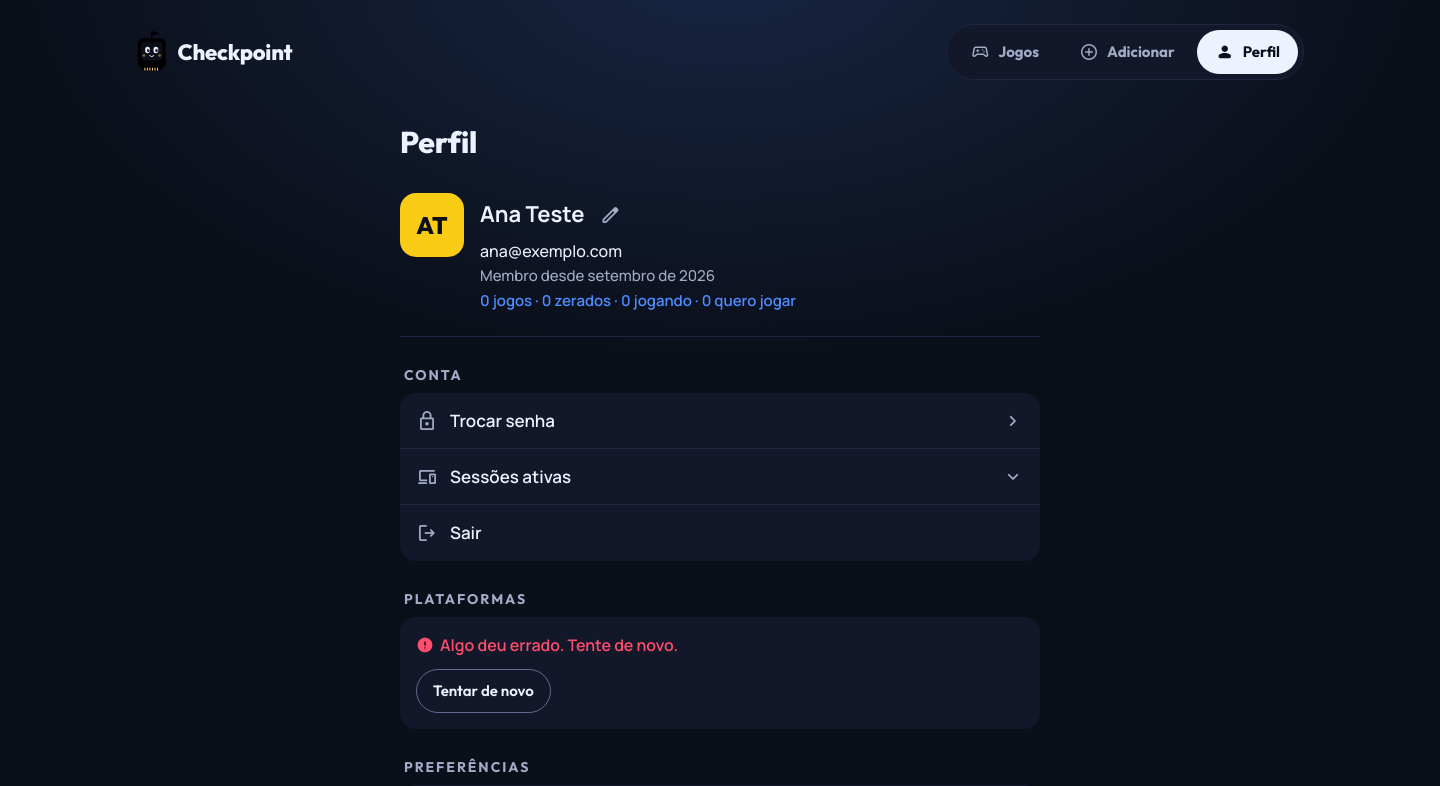
Test: /perfil (CA-33, CA-34, CA-36) › sem conexão, Sair NÃO sai: "Sem conexão. Para sair, conecte-se." e continua logado (CA-34)
Click the button "Sair": {"x": 466, "y": 533} x1=400 y1=505 x2=1040 y2=561
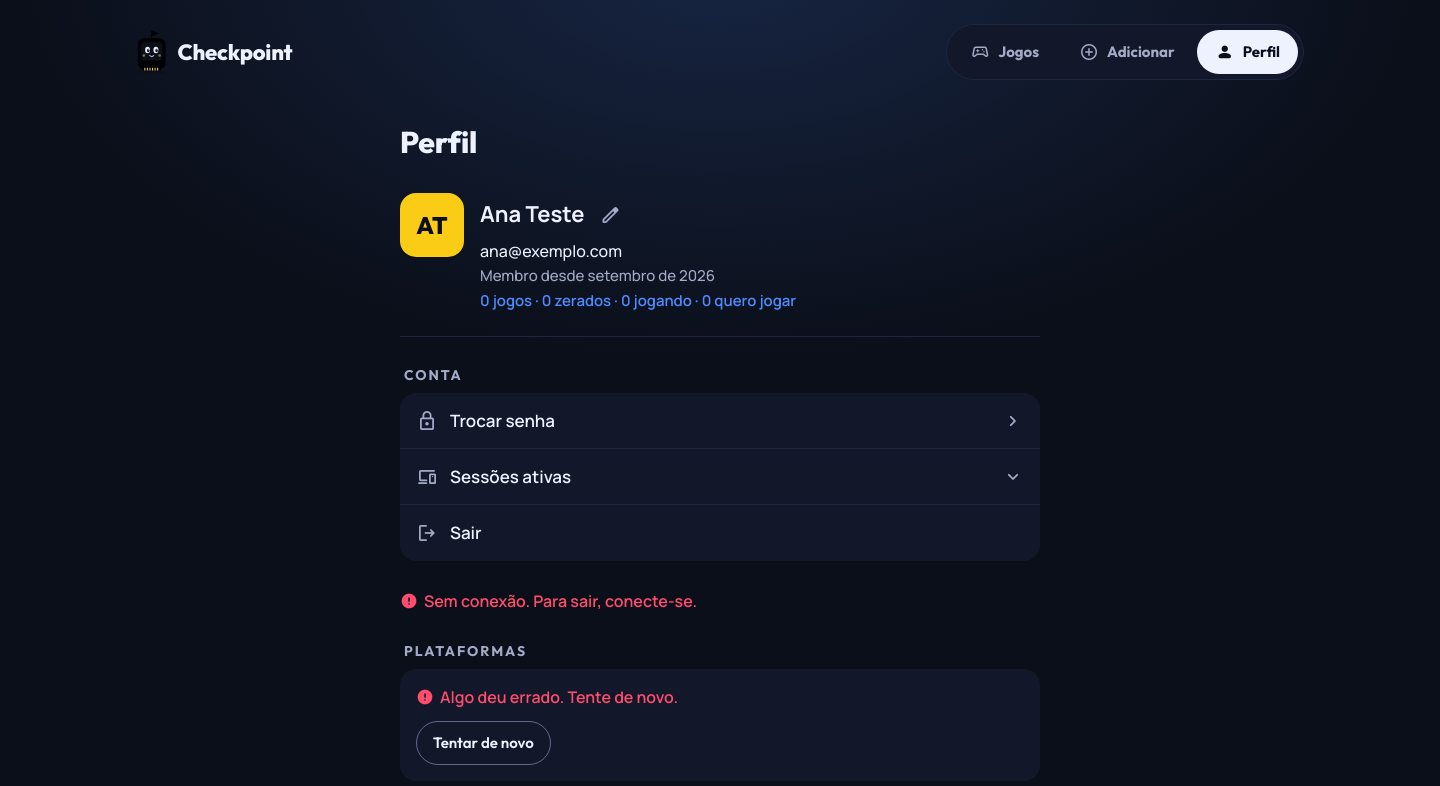
Expected: the heading "Ana Teste" is shown, x1=480 y1=201 x2=584 y2=229
Now the text "Sem conexão. Para sair, conecte-se." is shown, box x1=400 y1=590 x2=697 y2=612
